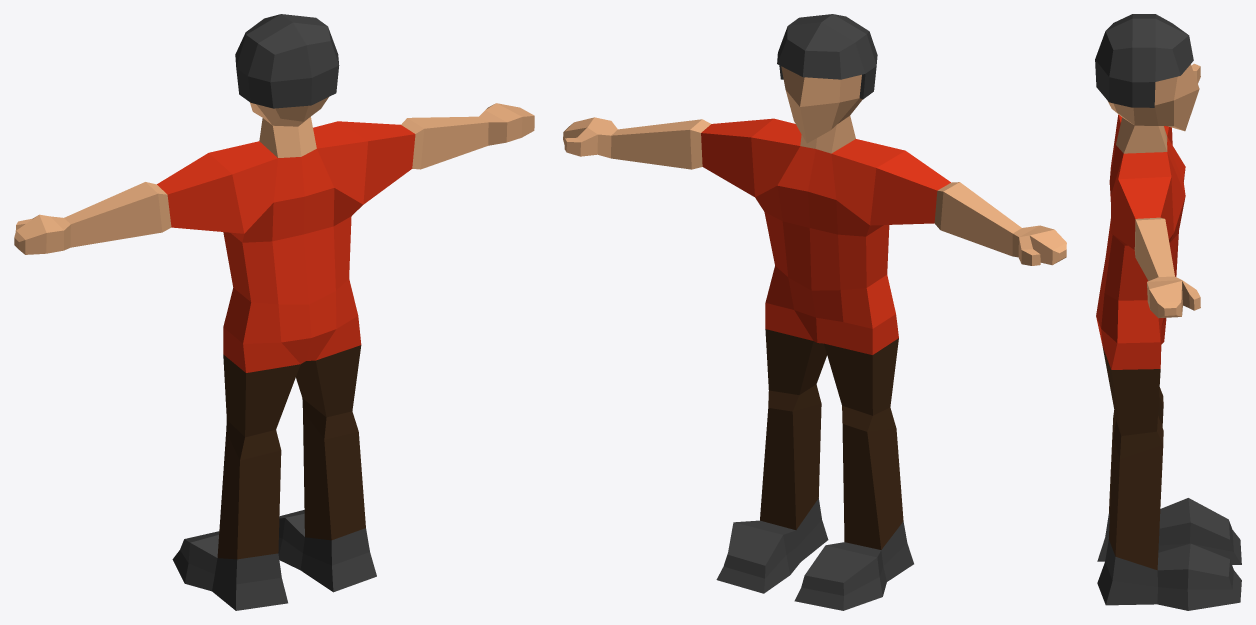
File: NPCS1.fbx
3 renders of one model, left to right at view 1: azimuth 30°, elevation 25°; view 2: azimuth 150°, elevation 25°; view 3: azimuth 270°, elevation 25°, orthographic. The views are drawn at different scales.
Parts seen in each view (by area): view 1: NPC.001; view 2: NPC.001; view 3: NPC.001.
Boxes of the visible parts, x1=… form: NPC.001: x1=14, y1=14, x2=534, y2=610; NPC.001: x1=563, y1=14, x2=1066, y2=610; NPC.001: x1=1095, y1=14, x2=1241, y2=610.
Bounding box in the file's own units: 3.76 × 0.9411 × 3.92.
